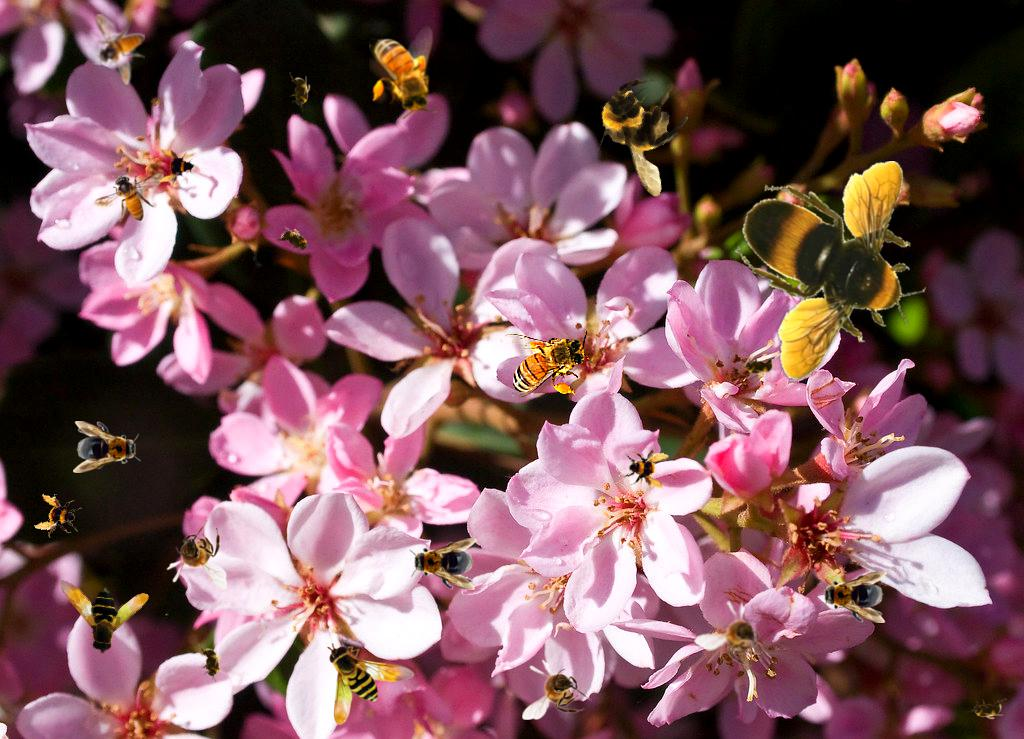Bee: (735, 161, 926, 381), (565, 57, 722, 214), (37, 542, 159, 662), (692, 590, 785, 680), (327, 643, 415, 725), (369, 26, 437, 119), (500, 330, 593, 398), (166, 520, 227, 590), (522, 659, 592, 720), (95, 14, 145, 85), (93, 172, 164, 222), (819, 571, 887, 623), (409, 538, 477, 590), (73, 421, 141, 473), (32, 491, 84, 543), (622, 443, 670, 491), (156, 146, 200, 190), (272, 220, 318, 262), (198, 642, 224, 684), (289, 72, 311, 112), (739, 355, 779, 377), (967, 698, 1007, 720)
